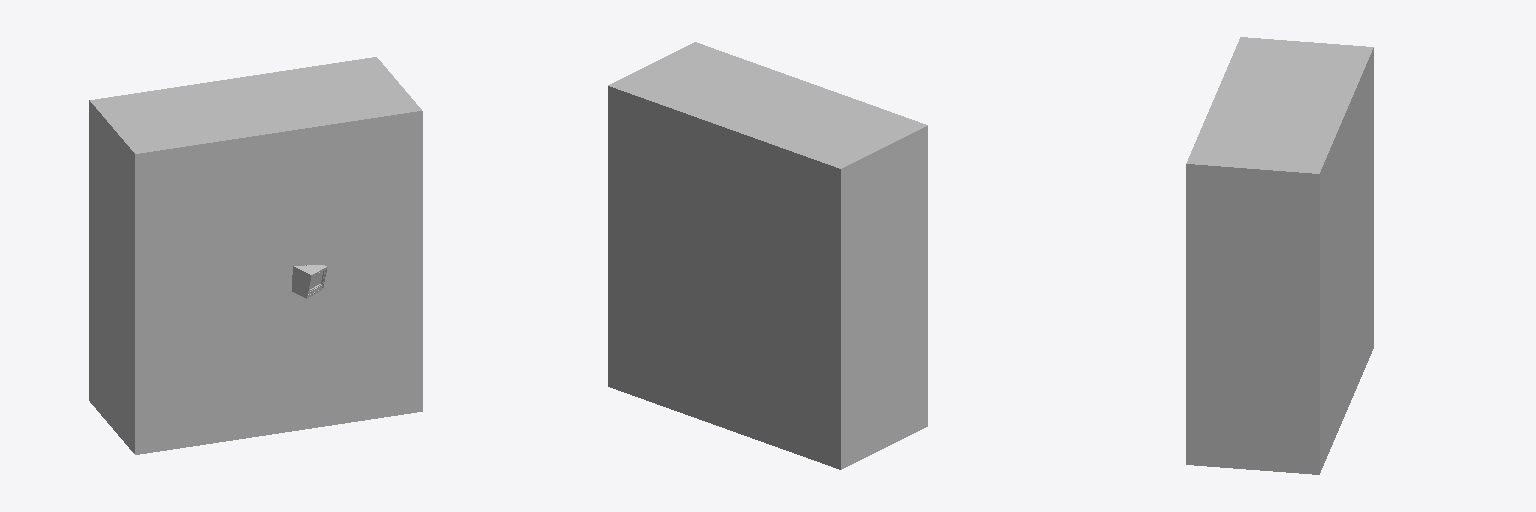
The model's file is CRT.obj.
The picture shows the model from 3 angles: view 1: azimuth 30°, elevation 25°; view 2: azimuth 150°, elevation 25°; view 3: azimuth 270°, elevation 25°; orthographic projection.
Visible parts, largest first — view 1: volume_Cube.001, Cube.005; view 2: volume_Cube.001; view 3: volume_Cube.001.
Boxes of the visible parts, x1,y1,x2,y2 form: volume_Cube.001: [89, 57, 422, 454]; Cube.005: [292, 265, 326, 298]; volume_Cube.001: [608, 42, 927, 469]; volume_Cube.001: [1186, 37, 1373, 474].
Bounding box in the file's own units: 34.38 × 35.19 × 19.9.